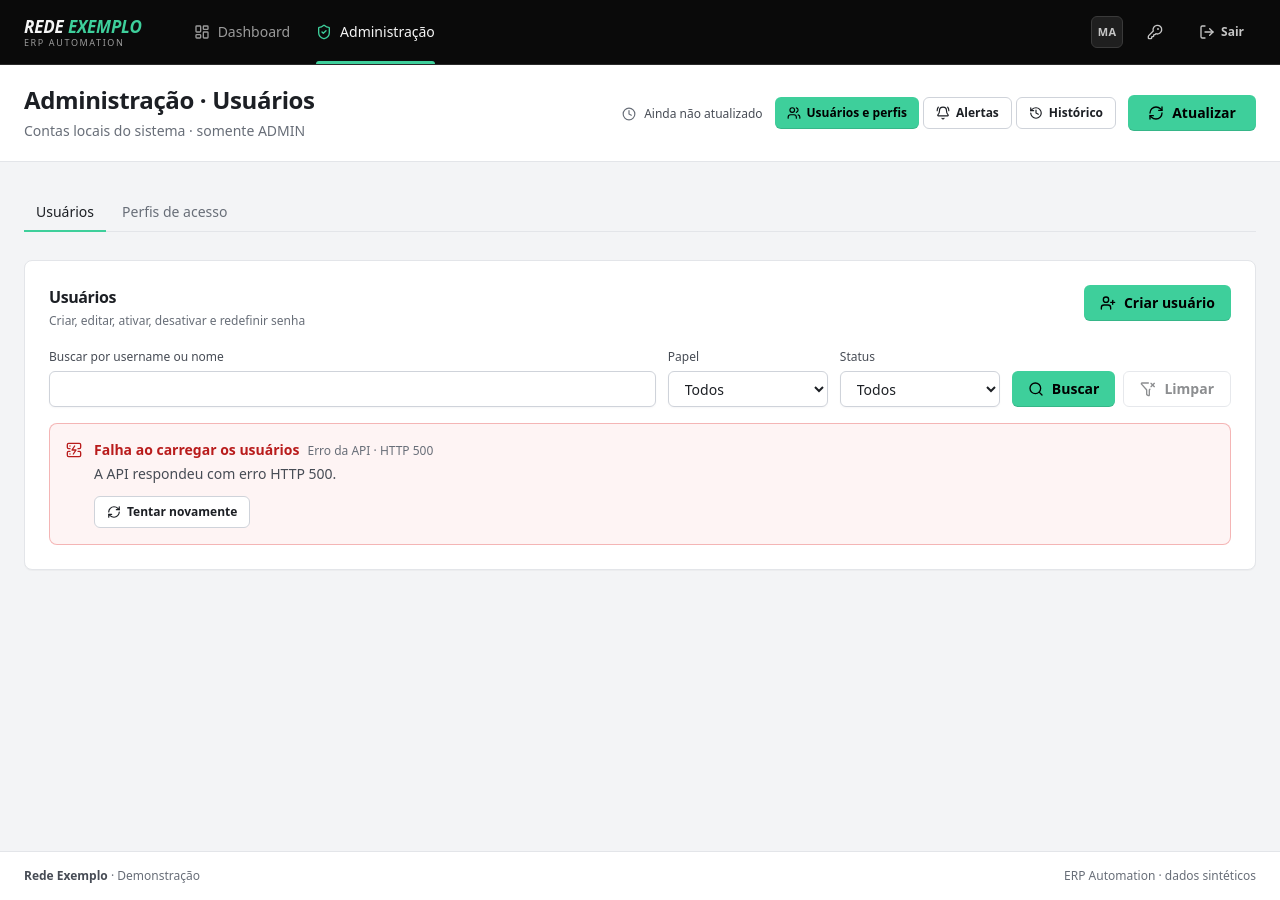
listagem › erro da API aparece com Tentar novamente
Expected: the message shows "Falha ao carregar os usuários", [94,440,300,459]
Expected: the message shows "HTTP 500", [308,442,433,459]
Step 1. Click the button "Tentar novamente" → (172, 512), box [94,496,250,528]
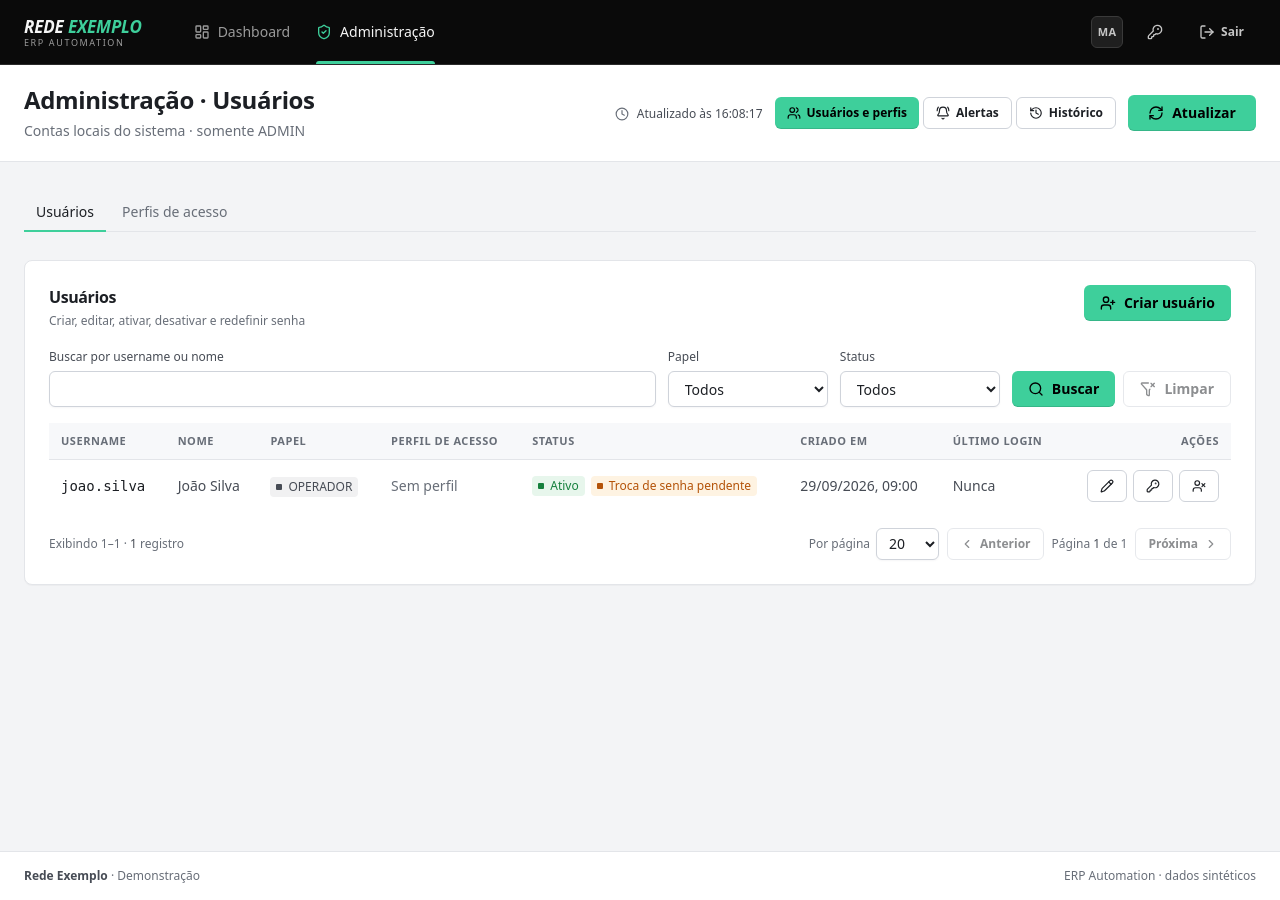
Expected: the text "joao.silva" is shown, [49,459,166,512]
